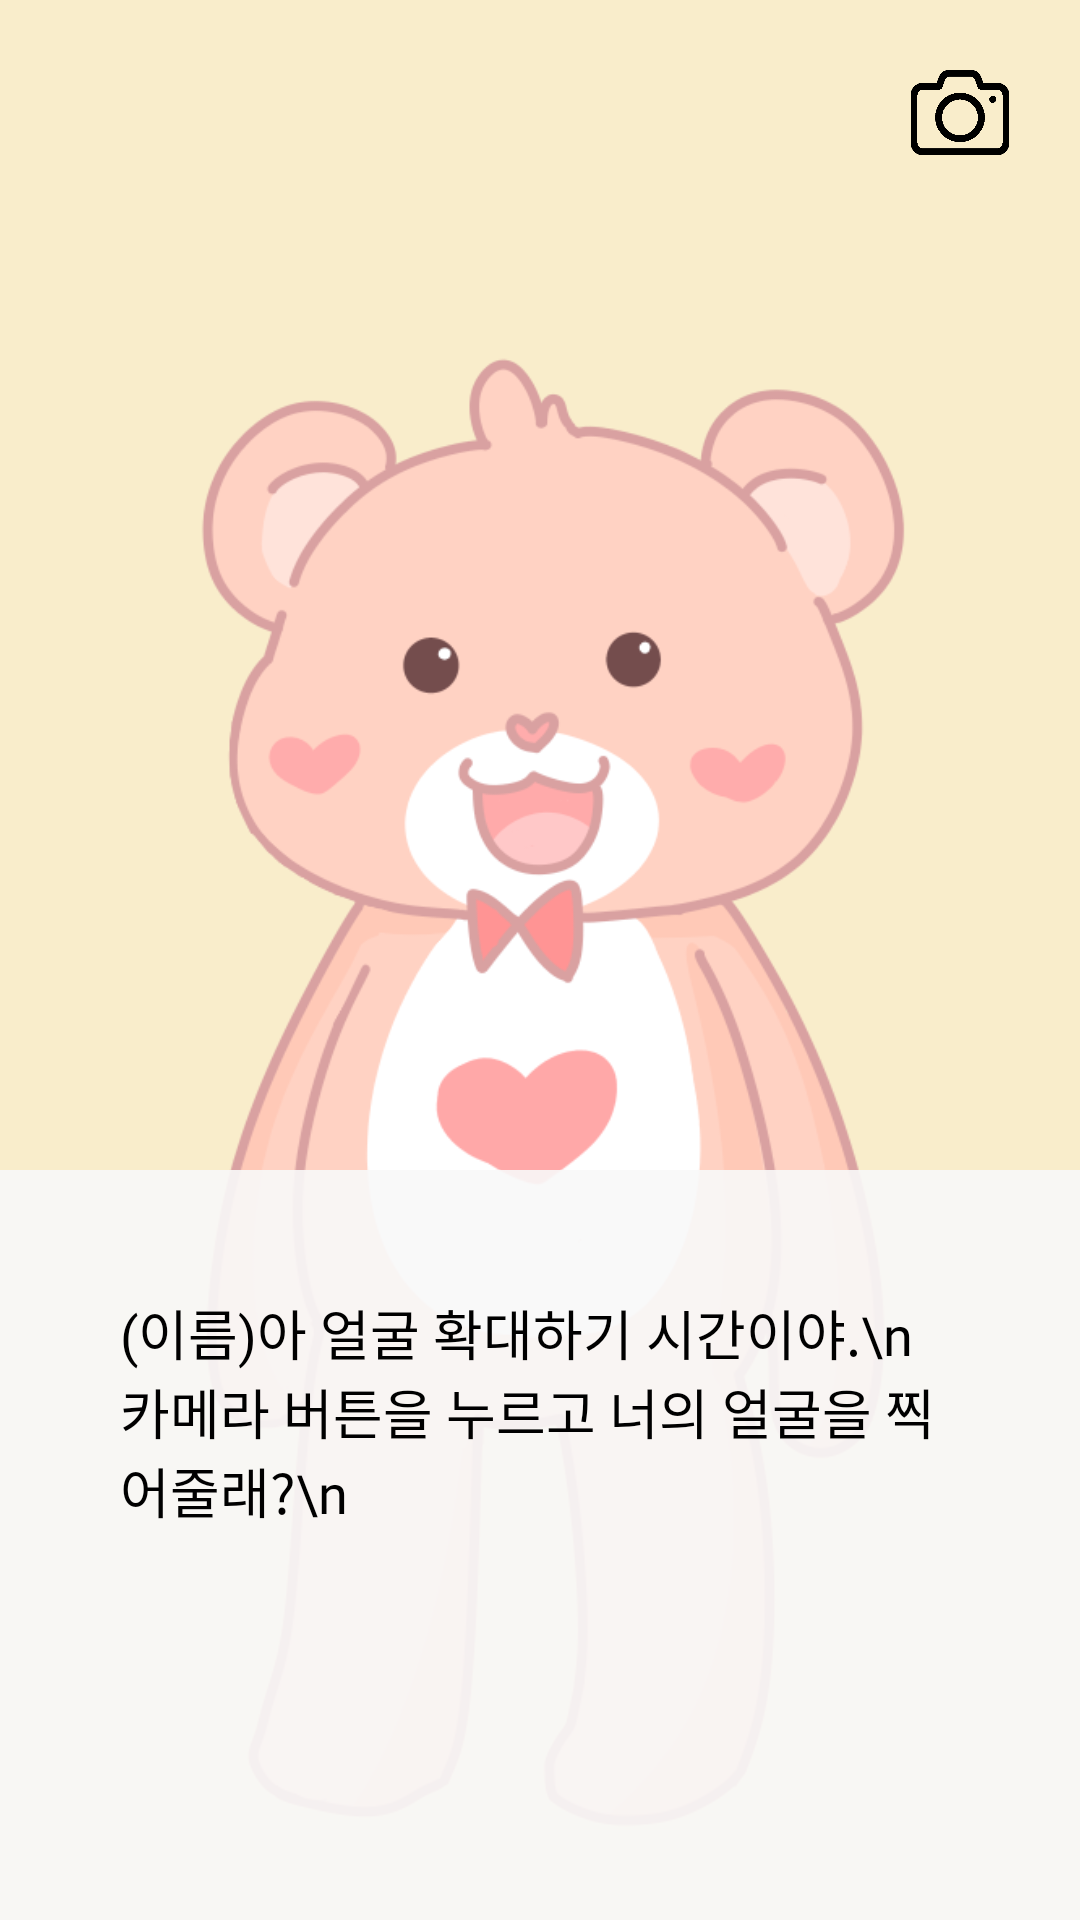

Icons on this 1080×1920 Android screen, each with its box as (x1, y1, x2, y2):
camera: (911, 70, 1009, 155)
